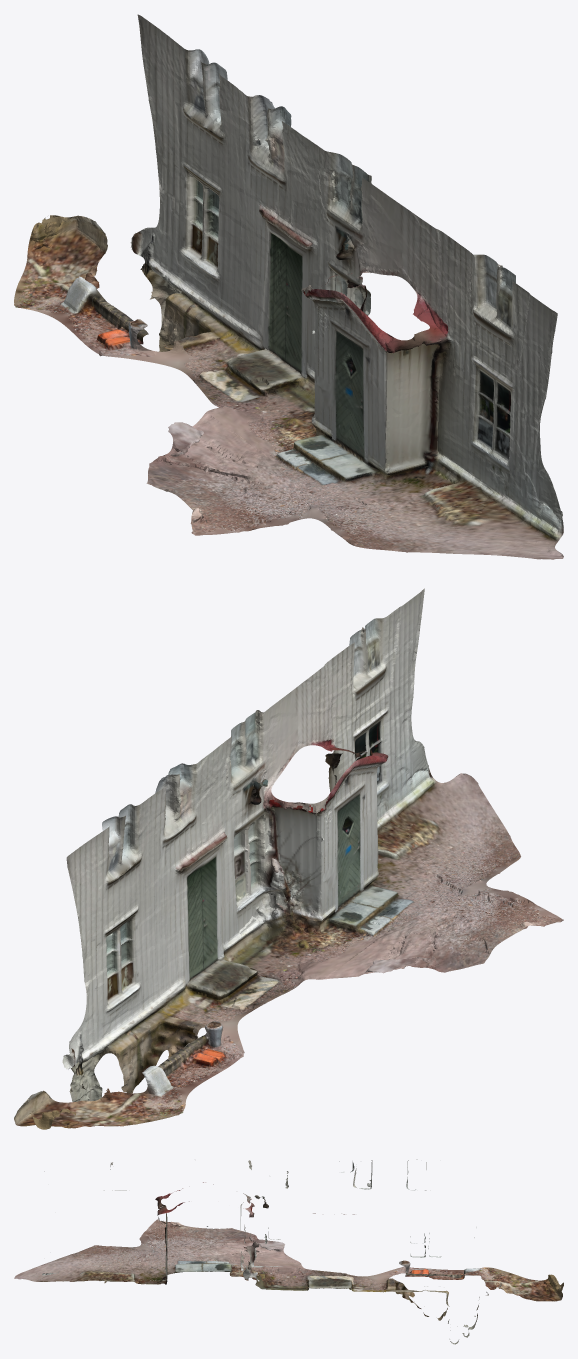
Rendered from S050_LillaAngardenFamilyWall.glb.
The picture shows the model from 3 angles, top to bottom: view 1: azimuth 30°, elevation 25°; view 2: azimuth 150°, elevation 25°; view 3: azimuth 270°, elevation 25°; orthographic projection. The views are drawn at different scales.
Size of the model in its own units: 5.32 by 6.24 by 16.96.
Materials: 1 (1 with a texture image).
